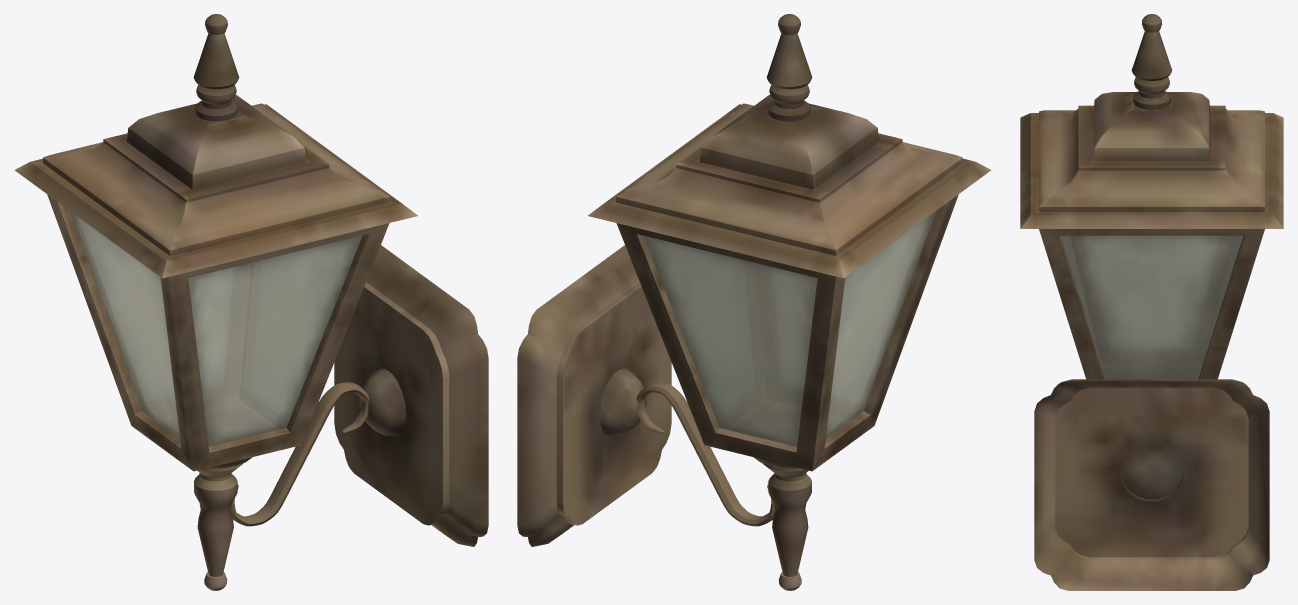
File: sconce2.glb
3 views of the same model, side by side, from view 1: azimuth 30°, elevation 25°; view 2: azimuth 150°, elevation 25°; view 3: azimuth 270°, elevation 25° (orthographic). The views are drawn at different scales.
Visible parts, largest first — view 1: Plane_Bronze_0, Cube.001_Glass_0; view 2: Plane_Bronze_0, Cube.001_Glass_0; view 3: Plane_Bronze_0, Cube.001_Glass_0.
Boxes of the visible parts, bbox=[...] form: Plane_Bronze_0: bbox=[14, 14, 488, 590]; Cube.001_Glass_0: bbox=[69, 210, 362, 446]; Plane_Bronze_0: bbox=[517, 14, 991, 590]; Cube.001_Glass_0: bbox=[643, 210, 936, 446]; Plane_Bronze_0: bbox=[1020, 14, 1283, 590]; Cube.001_Glass_0: bbox=[1061, 235, 1242, 379].
Bounding box in the file's own units: 0.7598 × 1.25 × 0.5828.
Materials: 2 (2 with a texture image).
